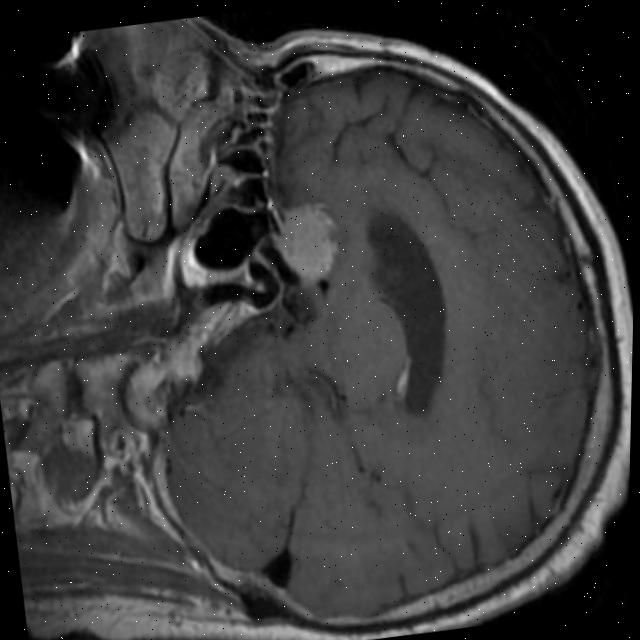Pituitary: (266, 199, 346, 289)
